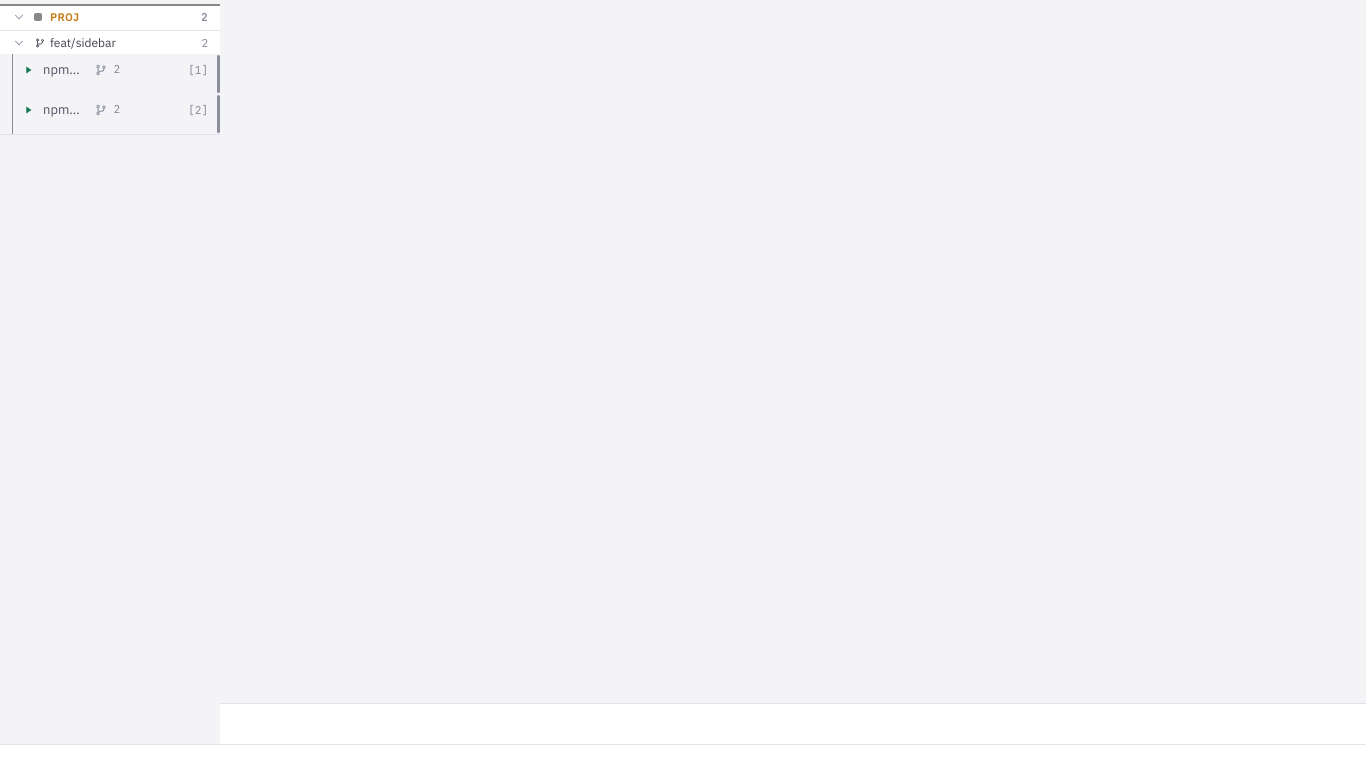
it: worktree group rename › sends nothing on Escape and restores the title
Double-click the element with class "hv-worktree-group__title" at (75, 42), box top-left (34, 35), bottom-right (116, 50)
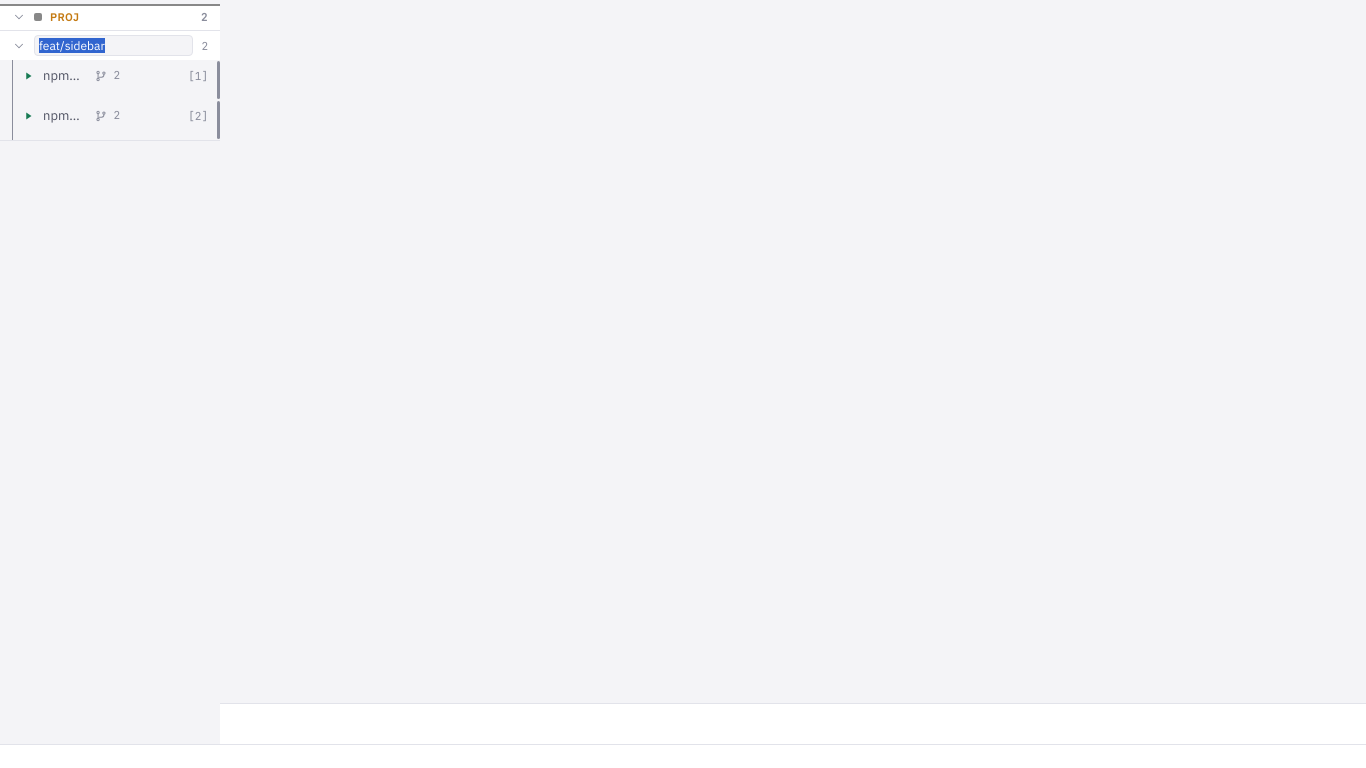
Result: the field with class "group-name-input" is shown
Replace the text in the field with class "group-name-input" with "discarded" at (114, 46), box top-left (34, 35), bottom-right (193, 56)
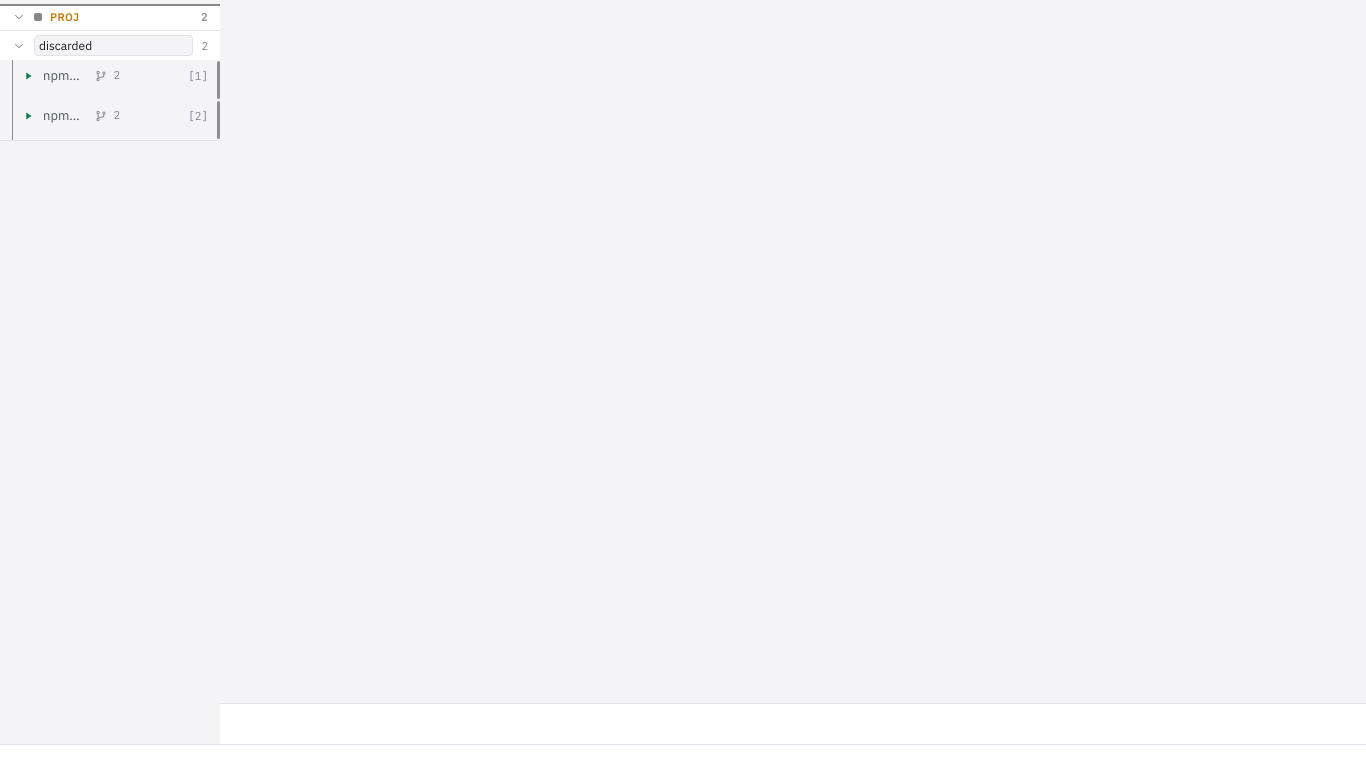
Press Escape in the field with class "group-name-input", box top-left (34, 35), bottom-right (193, 56)
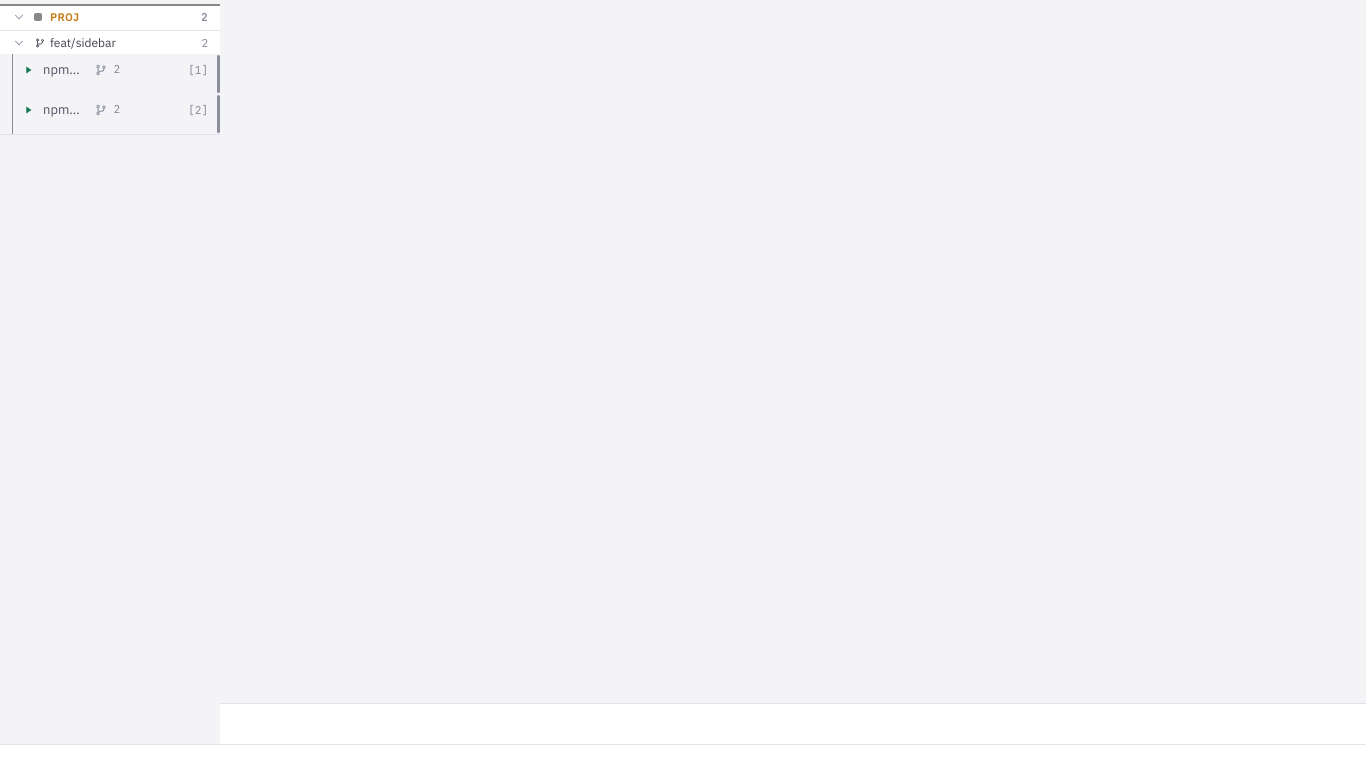
Result: the field with class "group-name-input" is gone
Result: the element with class "hv-worktree-group__branch" reads "feat/sidebar" at top-left (50, 35), bottom-right (116, 50)
